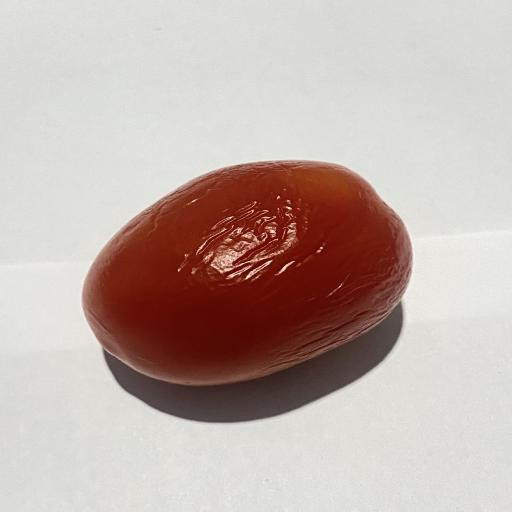spoiled: (83, 161, 411, 385)
